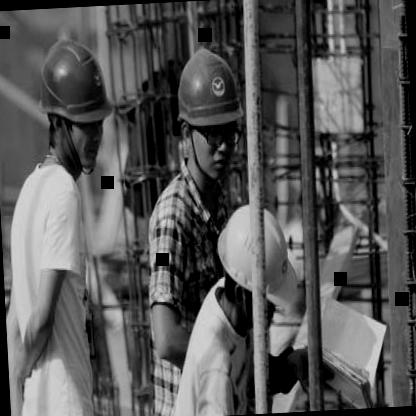helmet: (30, 20, 120, 180), (163, 35, 251, 193), (210, 190, 296, 346)
